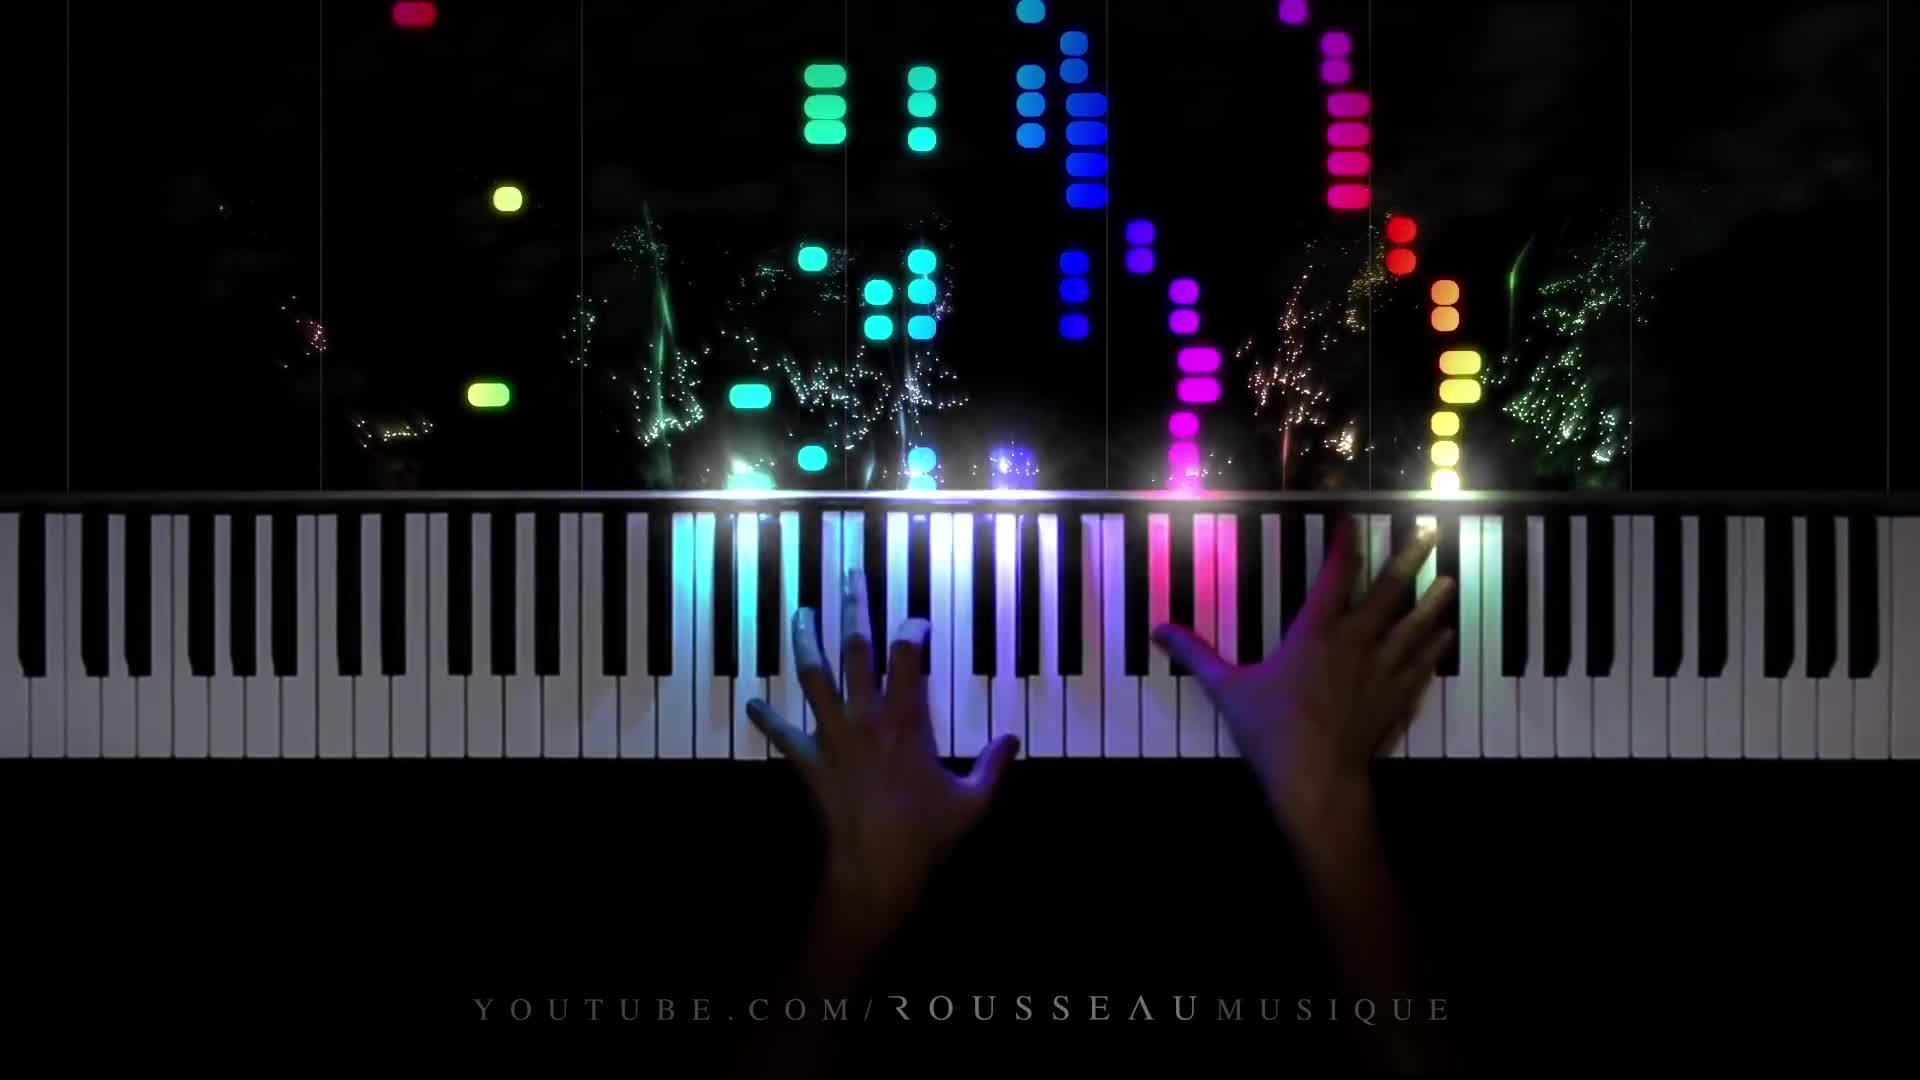left: (740, 564, 1025, 852)
right: (1146, 514, 1462, 800)
